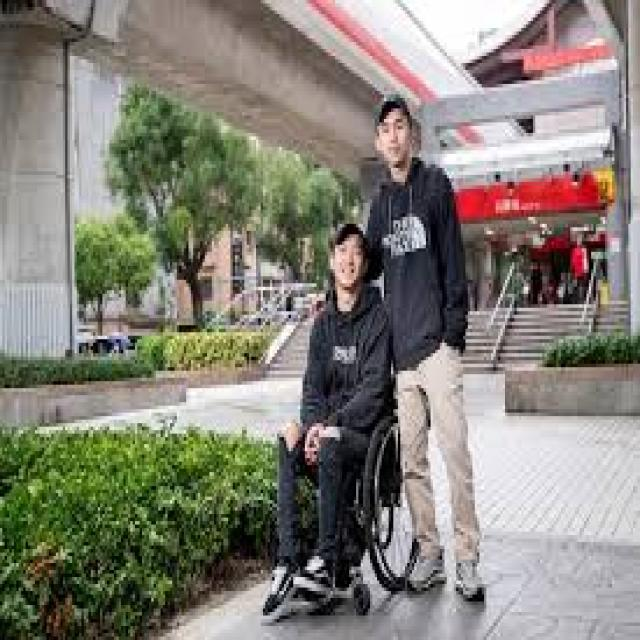wheelchairs: (266, 322, 458, 636)
